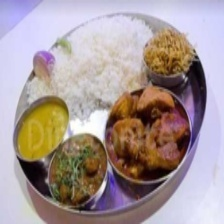rice: (24, 14, 145, 120)
